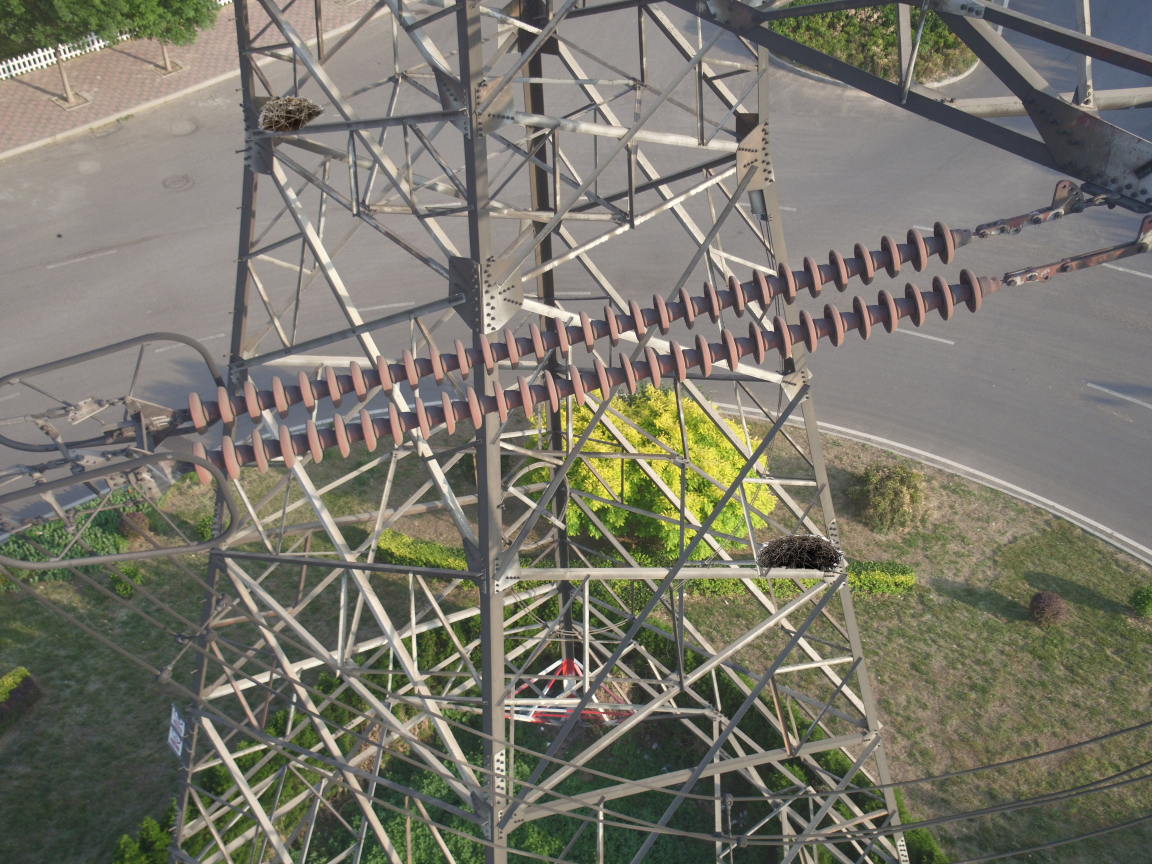nest: (752, 532, 851, 583), (252, 93, 325, 138)
